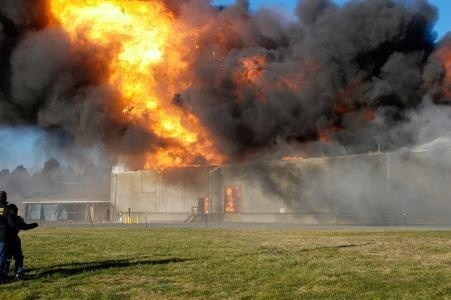fire: (43, 0, 242, 172), (223, 185, 236, 211)
